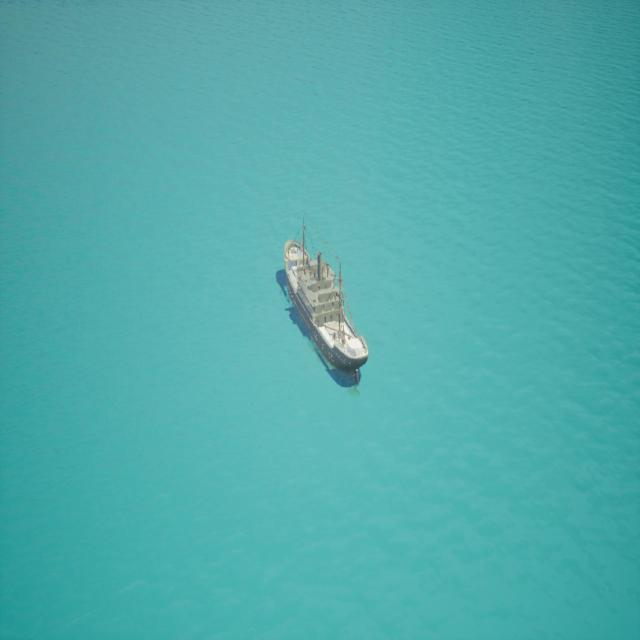fishing ship: (279, 232, 366, 386)
